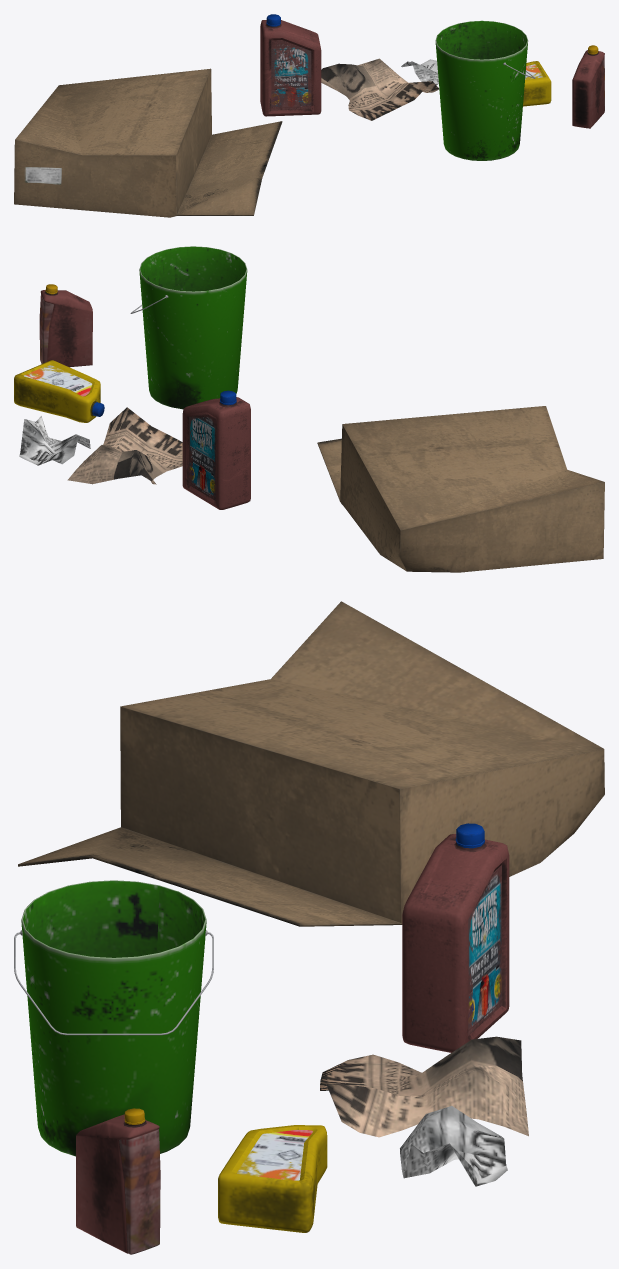
File: Prop_GarbageHeap_Messy_2.fbx
3 renders of one model, top to bottom at view 1: azimuth 30°, elevation 25°; view 2: azimuth 150°, elevation 25°; view 3: azimuth 270°, elevation 25°, orthographic. The views are drawn at different scales.
Parts seen in each view (by area): view 1: Prop_GarbageHeap_Messy_2; view 2: Prop_GarbageHeap_Messy_2; view 3: Prop_GarbageHeap_Messy_2.
Boxes of the visible parts, x1=… form: Prop_GarbageHeap_Messy_2: x1=14, y1=14, x2=604, y2=217; Prop_GarbageHeap_Messy_2: x1=14, y1=246, x2=604, y2=572; Prop_GarbageHeap_Messy_2: x1=14, y1=601, x2=604, y2=1254.
Size of the model in its own units: 86.23 by 16.32 by 41.03.
